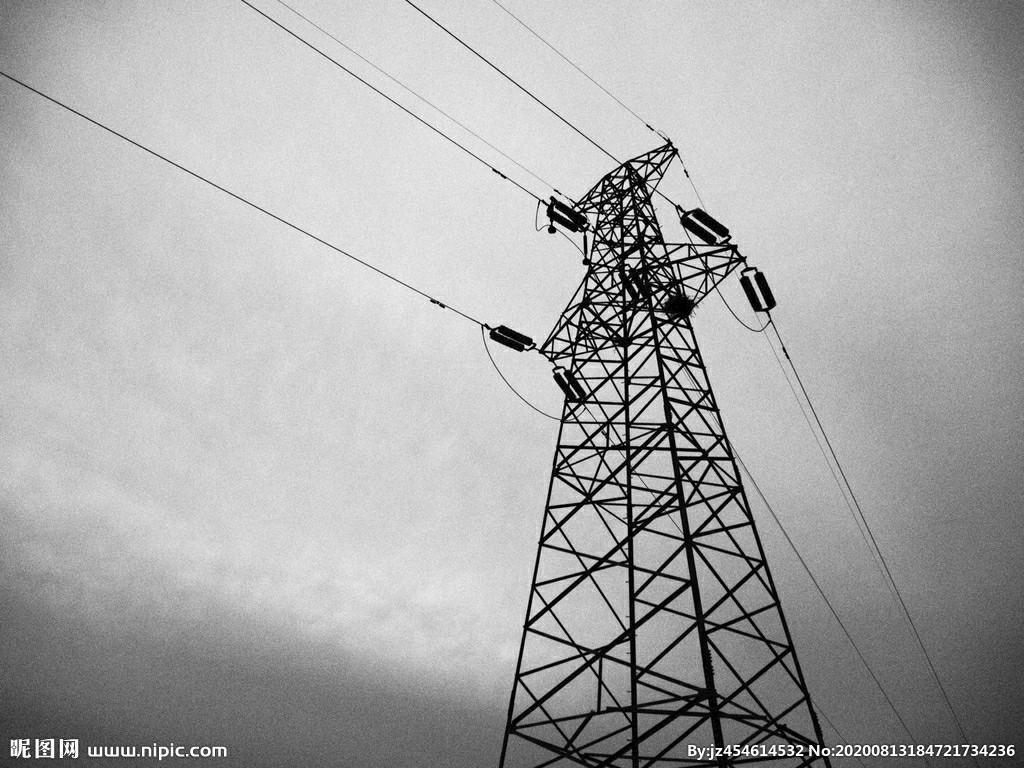power_tower: (493, 131, 830, 767)
